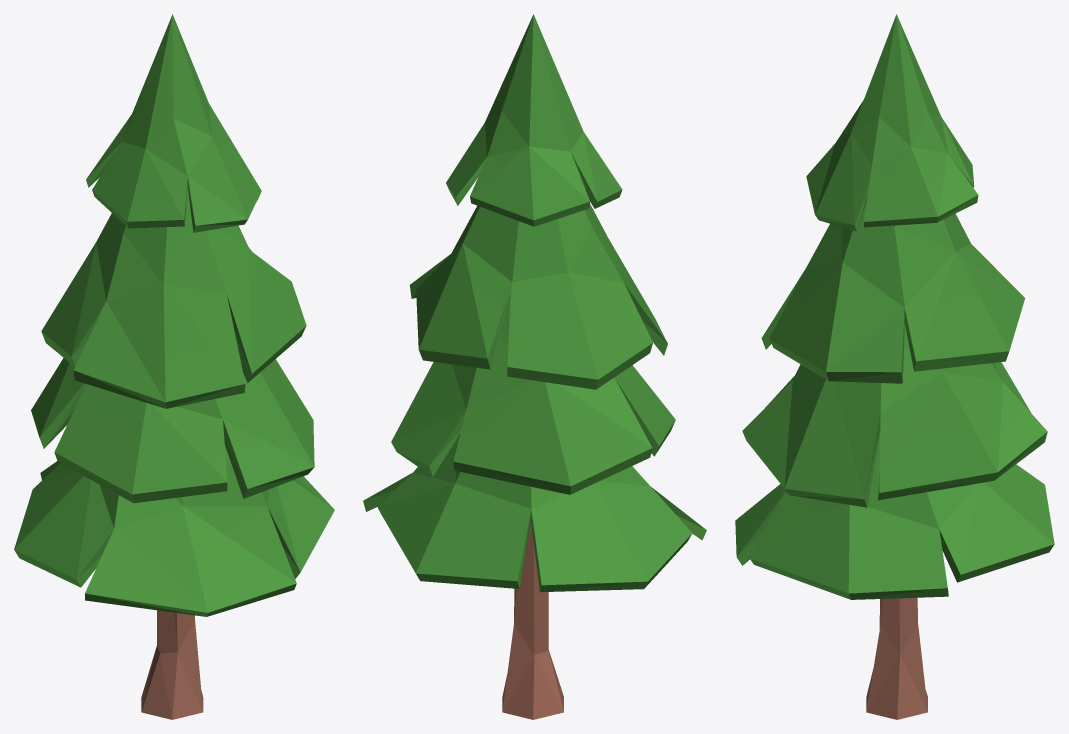
The model's file is tree.glb.
3 views of the same model, side by side, from view 1: azimuth 30°, elevation 25°; view 2: azimuth 150°, elevation 25°; view 3: azimuth 270°, elevation 25° (orthographic).
Visible parts, largest first — view 1: fir_001; view 2: fir_001; view 3: fir_001.
Boxes of the visible parts, <box> form: fir_001: <box>14,14,334,719</box>; fir_001: <box>363,14,706,719</box>; fir_001: <box>735,14,1054,719</box>.
Size of the model in its own units: 2.63 by 6.18 by 2.59.
1 material, 1 textured.
